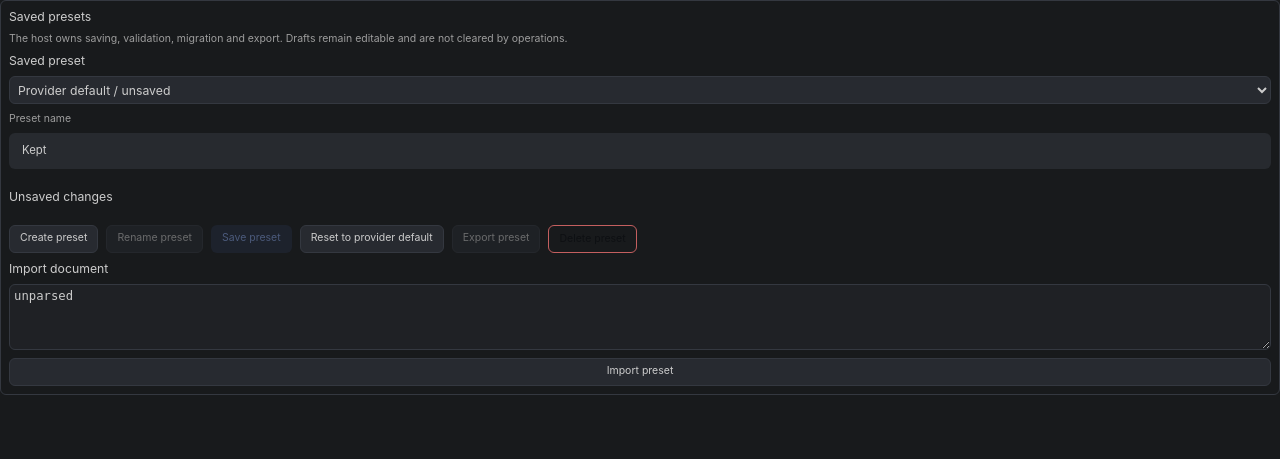
workspace interaction boundaries › keeps draft controls usable after rejected host callbacks
Click the button "Create preset": (54, 238) [9, 224, 98, 252]
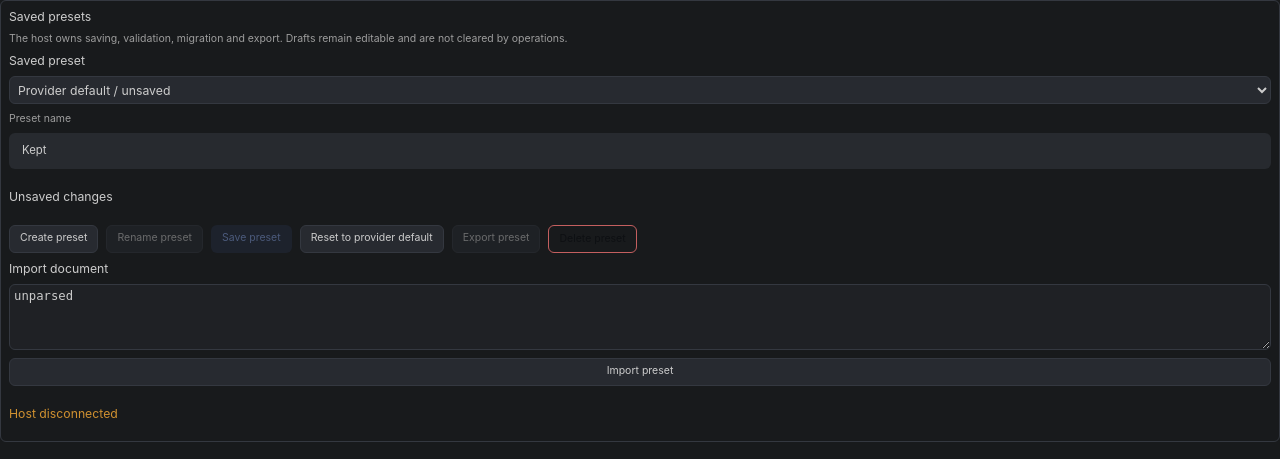
Expected: the field labelled "Preset name" holds "Kept", [22, 143, 1258, 159]
Result: the message "Host disconnected" is shown at [9, 406, 118, 421]
